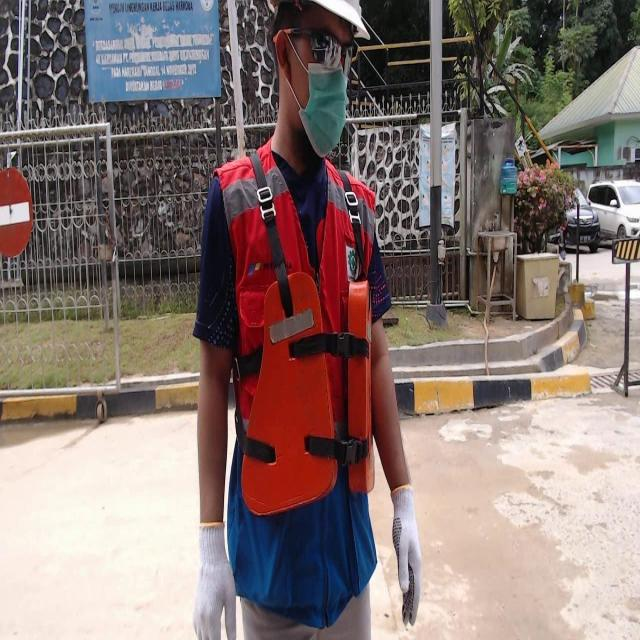Vest: (240, 271, 378, 519)
